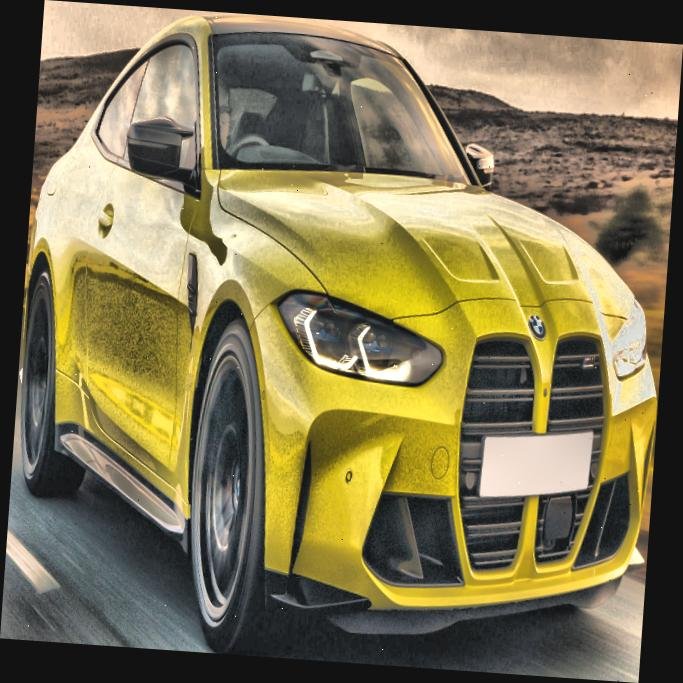Car: (0, 0, 682, 683)
